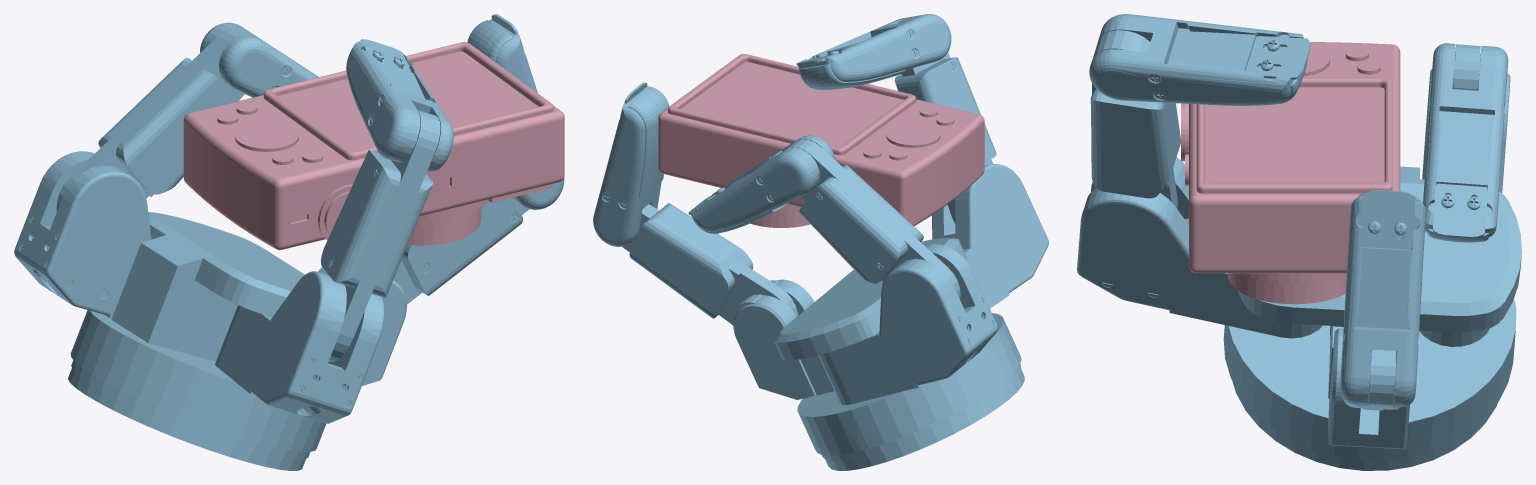
The picture shows the model from 3 angles, left to right: view 1: azimuth 30°, elevation 25°; view 2: azimuth 150°, elevation 25°; view 3: azimuth 270°, elevation 25°; orthographic projection. The views are drawn at different scales.
Parts seen in each view (by area): view 1: world; view 2: world; view 3: world.
Boxes of the visible parts, x1,y1,x2,y2 form: world: (14,14,564,470); world: (593,14,1048,470); world: (1077,14,1521,470).
Bounding box in the file's own units: 0.1879 × 0.1558 × 0.1362.
